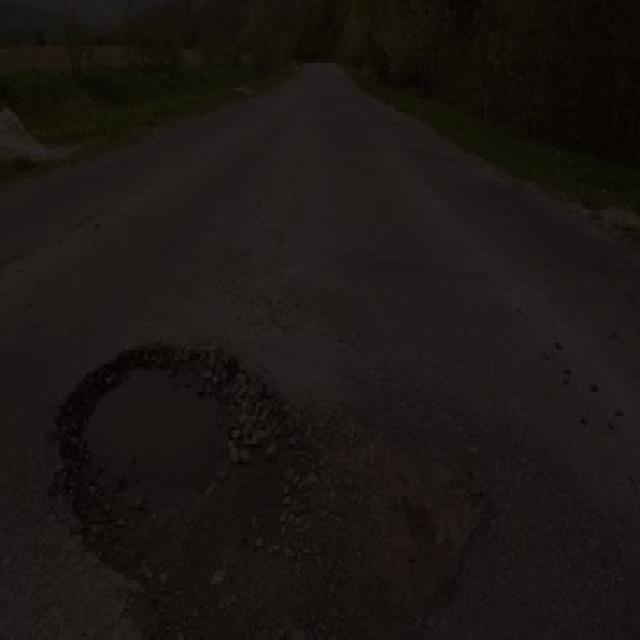Pothole: (45, 330, 312, 584)
